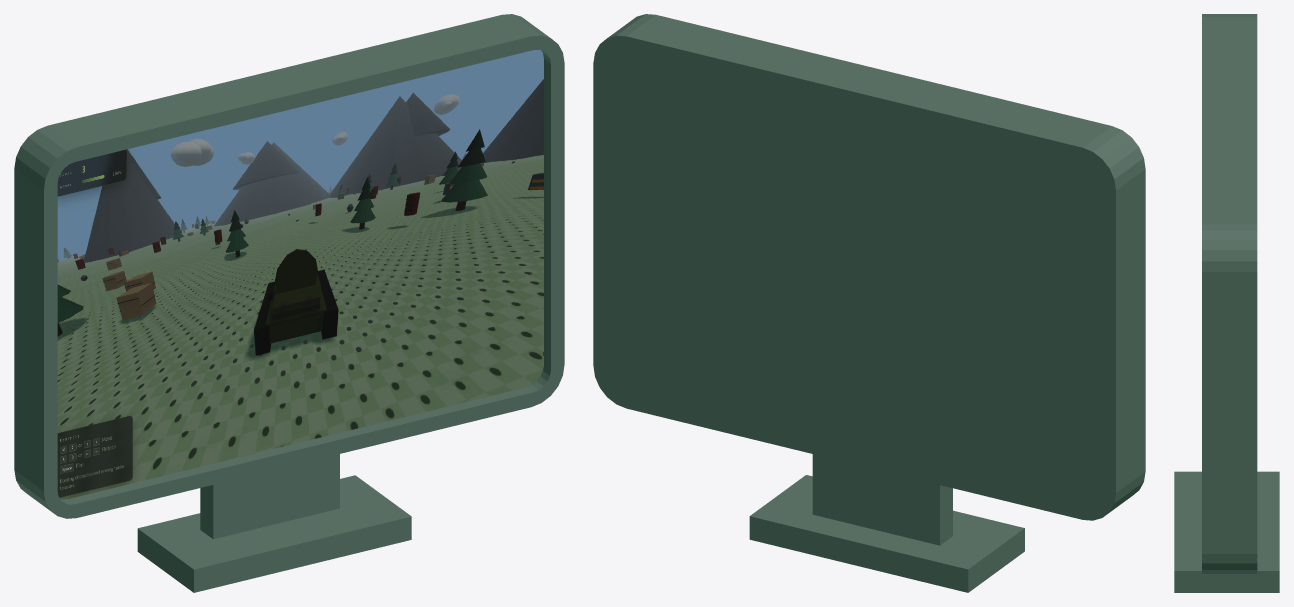
Rendered from made-with-ai-tv-1-hq.glb.
3 renders of one model, left to right at view 1: azimuth 30°, elevation 25°; view 2: azimuth 150°, elevation 25°; view 3: azimuth 270°, elevation 25°, orthographic. The views are drawn at different scales.
Visible parts, largest first — view 1: Cube.001; view 2: Cube.001; view 3: Cube.001.
Part boxes in pixels (x1,y1,x2,y2): Cube.001: (14, 14, 564, 592); Cube.001: (593, 14, 1145, 592); Cube.001: (1174, 14, 1279, 592).
Size of the model in its own units: 4.58 by 3.87 by 0.8596.
2 materials, 1 textured.
